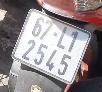1: (65, 28, 81, 55)
2: (21, 37, 39, 62)
4: (42, 47, 61, 73)
5: (31, 42, 50, 67), (55, 52, 73, 77)
6: (30, 14, 46, 39)
7: (39, 16, 57, 42)
L: (55, 24, 73, 51)
